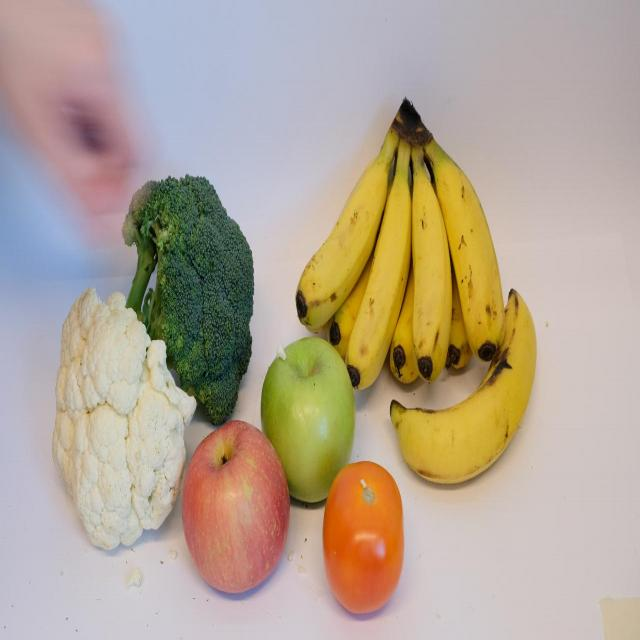apple: (258, 324, 356, 506), (179, 429, 283, 595)
banana: (392, 287, 551, 488), (286, 154, 384, 332), (346, 158, 409, 382), (439, 150, 506, 358), (410, 167, 455, 382)
broccoli: (114, 146, 250, 422)
cauliflower: (49, 298, 191, 556)
tomato: (324, 458, 413, 618)
